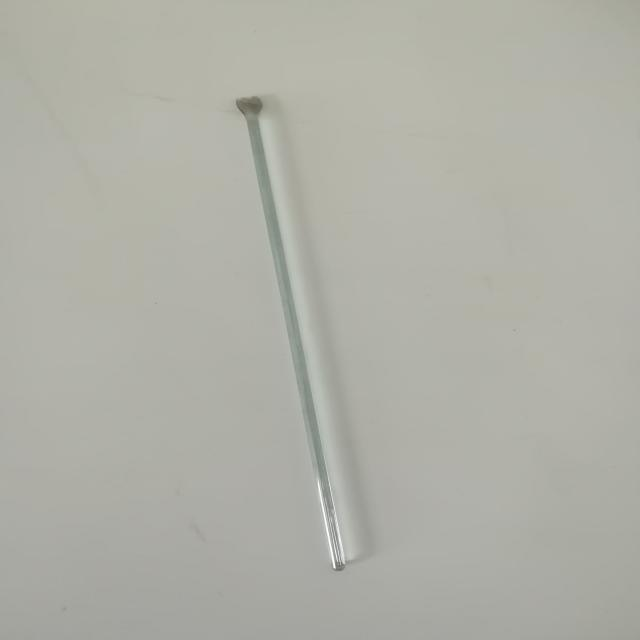Glass_Rod: (168, 63, 416, 618)
